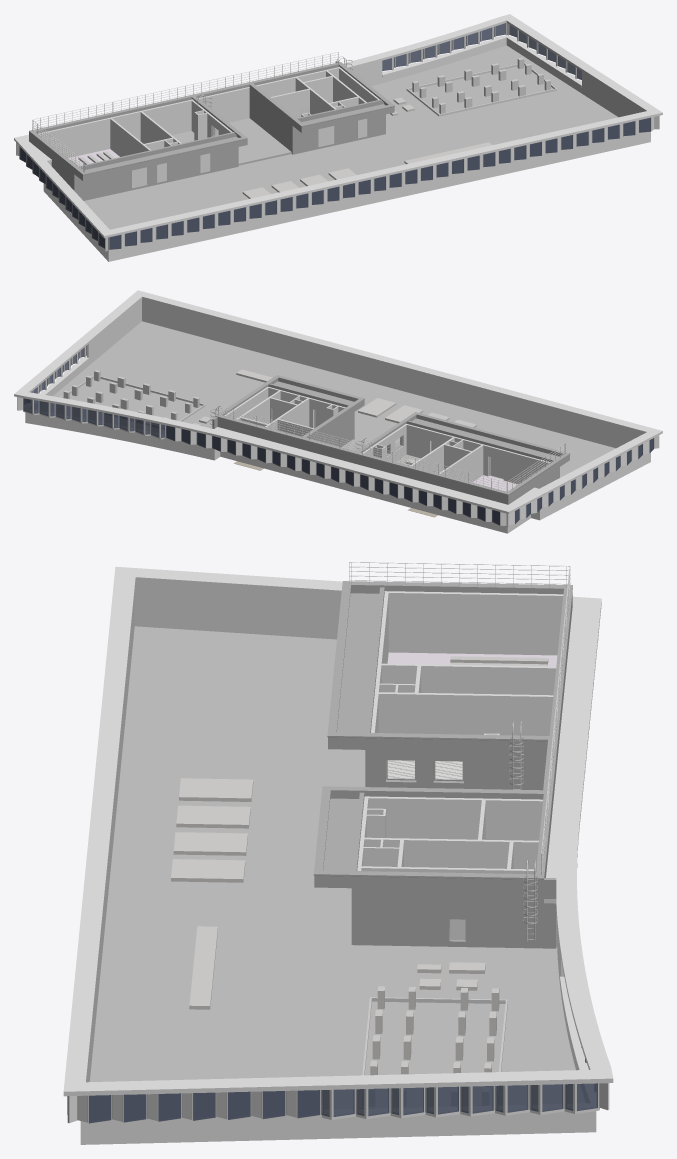
The picture shows the model from 3 angles, top to bottom: view 1: azimuth 30°, elevation 25°; view 2: azimuth 150°, elevation 25°; view 3: azimuth 270°, elevation 25°; orthographic projection. The views are drawn at different scales.
Visible parts, largest first — view 1: A5-RF_OuterFloor, A5-RF_OuterWall, A5-RF_InnerWall2, A5-RF_Glass, A5-RF_GlassFrame, A5-RF_InnerWall, A5-RF_Fur., A5-RF_Handrail, A5-RF_Door, A5-RF_InnerFloor; view 2: A5-RF_OuterWall, A5-RF_OuterFloor, A5-RF_InnerWall2, A5-RF_InnerWall, A5-RF_GlassFrame, A5-RF_Glass, A5-RF_Fur., A5-RF_Handrail, A5-RF_Door, A5-RF_InnerFloor; view 3: A5-RF_OuterFloor, A5-RF_OuterWall, A5-RF_InnerWall2, A5-RF_InnerWall, A5-RF_Fur., A5-RF_Glass, A5-RF_GlassFrame, A5-RF_Handrail, A5-RF_Vent, A5-RF_InnerFloor, A5-RF_Ladder.
Boxes of the visible parts, left/top/right/bottom form: A5-RF_OuterFloor: left=84, top=45, right=617, bottom=229; A5-RF_OuterWall: left=14, top=14, right=662, bottom=261; A5-RF_InnerWall2: left=29, top=60, right=394, bottom=200; A5-RF_Glass: left=19, top=23, right=650, bottom=249; A5-RF_GlassFrame: left=19, top=23, right=654, bottom=249; A5-RF_InnerWall: left=32, top=67, right=379, bottom=156; A5-RF_Fur.: left=70, top=57, right=550, bottom=198; A5-RF_Handrail: left=32, top=52, right=338, bottom=172; A5-RF_Door: left=132, top=108, right=367, bottom=188; A5-RF_InnerFloor: left=68, top=131, right=194, bottom=165; A5-RF_OuterWall: left=14, top=290, right=662, bottom=533; A5-RF_OuterFloor: left=41, top=321, right=615, bottom=477; A5-RF_InnerWall2: left=212, top=375, right=570, bottom=504; A5-RF_InnerWall: left=224, top=386, right=550, bottom=484; A5-RF_GlassFrame: left=23, top=345, right=654, bottom=525; A5-RF_Glass: left=23, top=348, right=653, bottom=525; A5-RF_Fur.: left=63, top=369, right=476, bottom=464; A5-RF_Handrail: left=218, top=405, right=565, bottom=492; A5-RF_Door: left=271, top=408, right=503, bottom=478; A5-RF_InnerFloor: left=396, top=454, right=517, bottom=491; A5-RF_OuterFloor: left=89, top=626, right=584, bottom=1108; A5-RF_OuterWall: left=63, top=566, right=613, bottom=1144; A5-RF_InnerWall2: left=313, top=581, right=572, bottom=948; A5-RF_InnerWall: left=357, top=591, right=563, bottom=939; A5-RF_Fur.: left=171, top=656, right=548, bottom=1106; A5-RF_Glass: left=88, top=1083, right=597, bottom=1123; A5-RF_GlassFrame: left=67, top=640, right=599, bottom=1123; A5-RF_Handrail: left=349, top=562, right=570, bottom=875; A5-RF_Vent: left=386, top=760, right=463, bottom=781; A5-RF_InnerFloor: left=387, top=652, right=557, bottom=937; A5-RF_Ladder: left=509, top=721, right=537, bottom=941.
Bounding box in the file's own units: 62.36 × 7.42 × 27.6.
